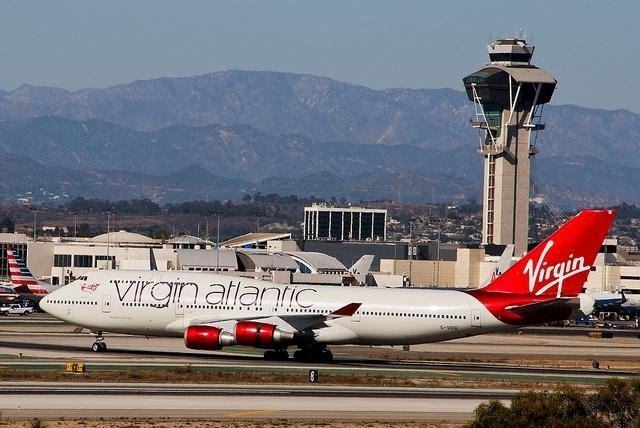truck: (0, 304, 33, 316)
